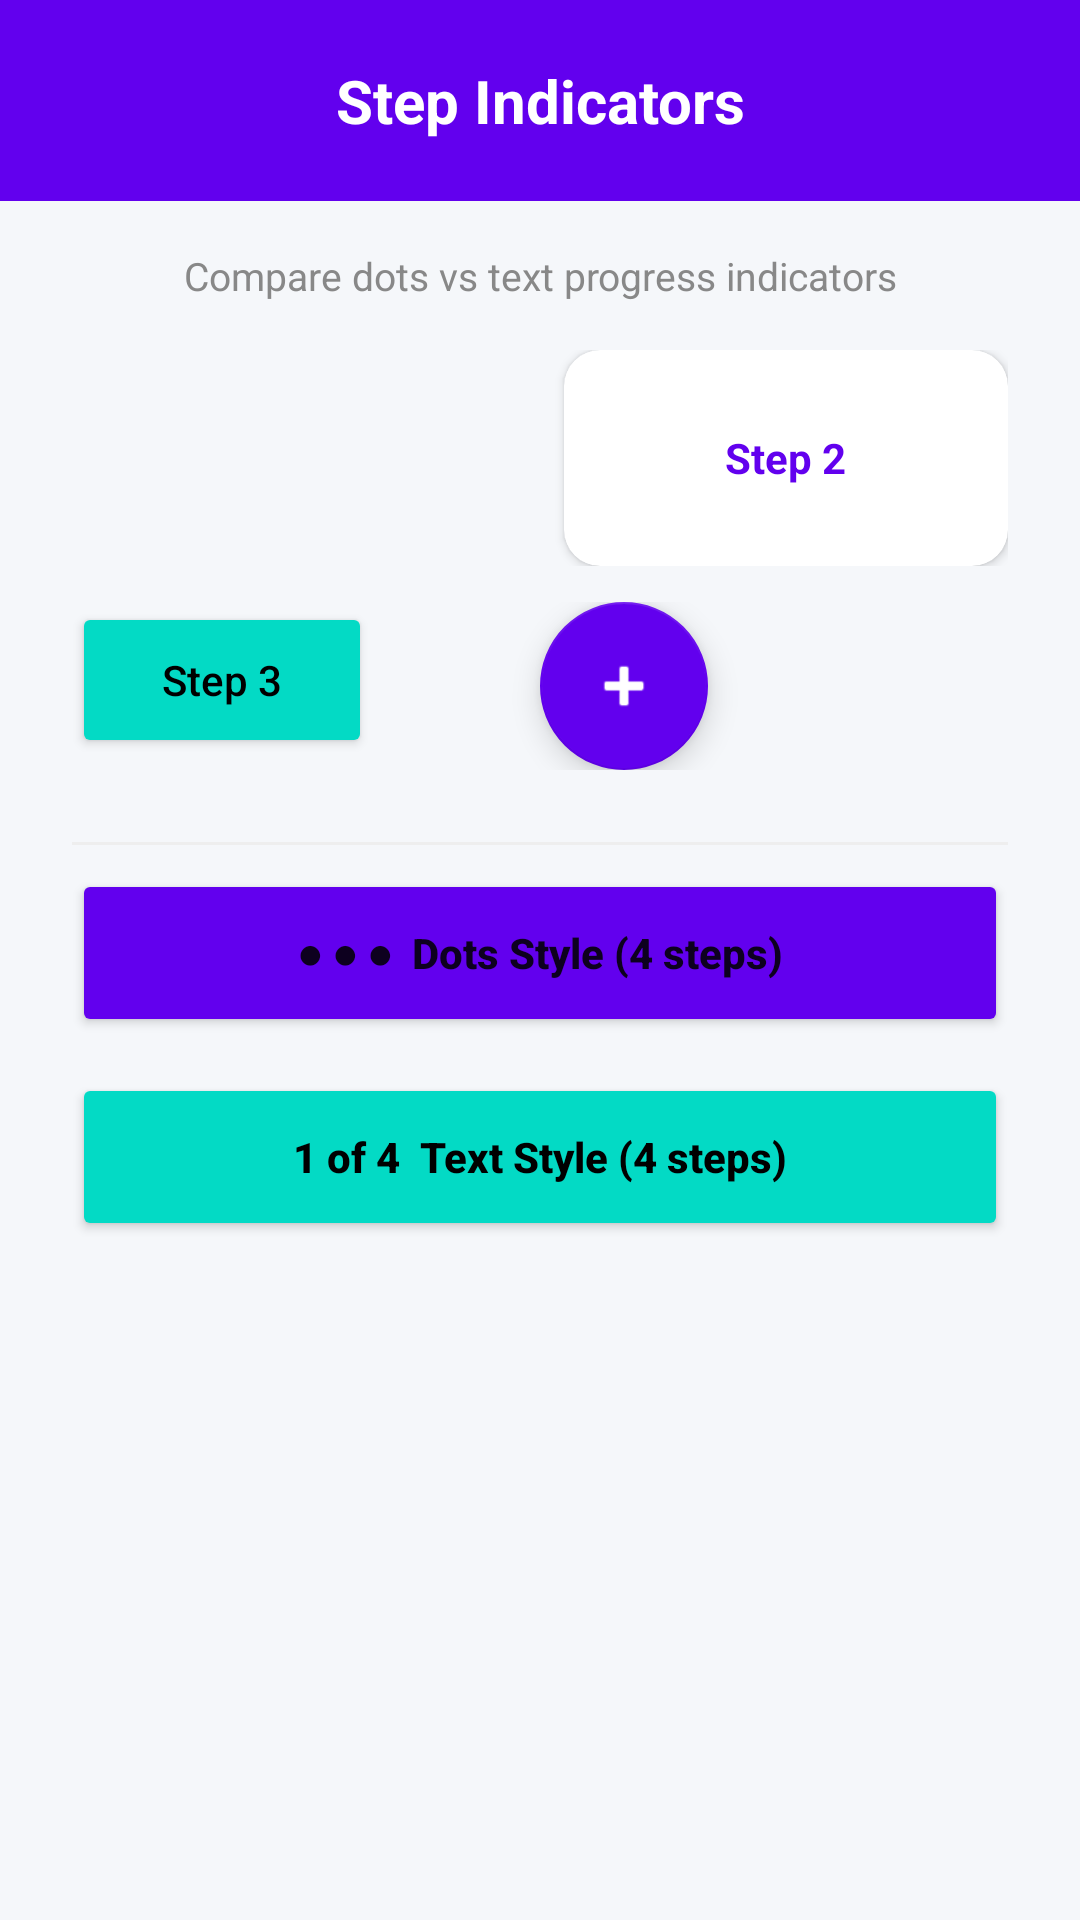

Icons on this 1080w x 1920h Android screen, each with its box as (x1, y1, x2, y2):
add: (540, 602, 708, 770)
